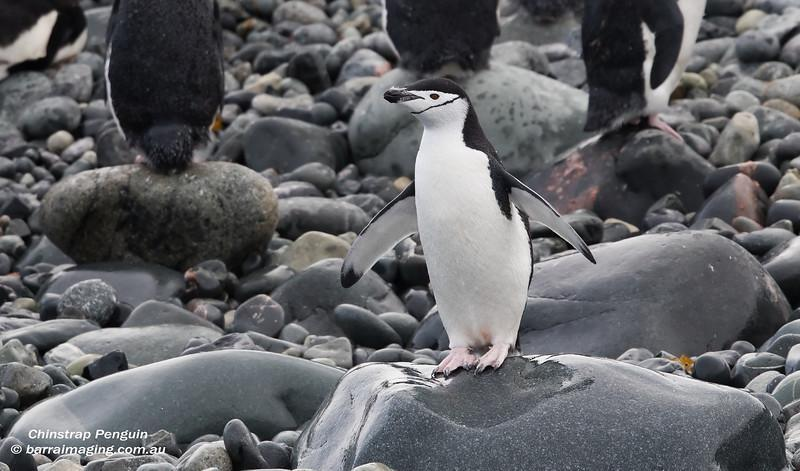Penguin: (341, 78, 595, 374), (104, 0, 223, 174), (583, 0, 706, 132), (385, 0, 500, 74), (0, 0, 86, 80)
